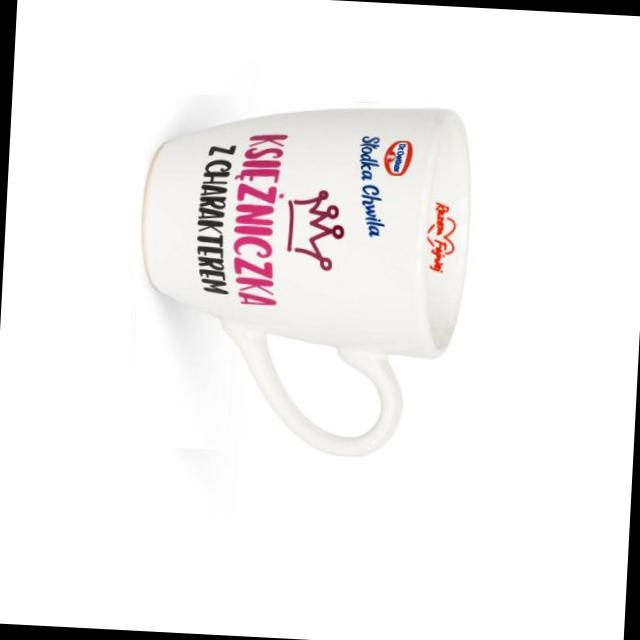Coffee Mug: (132, 95, 476, 462)
